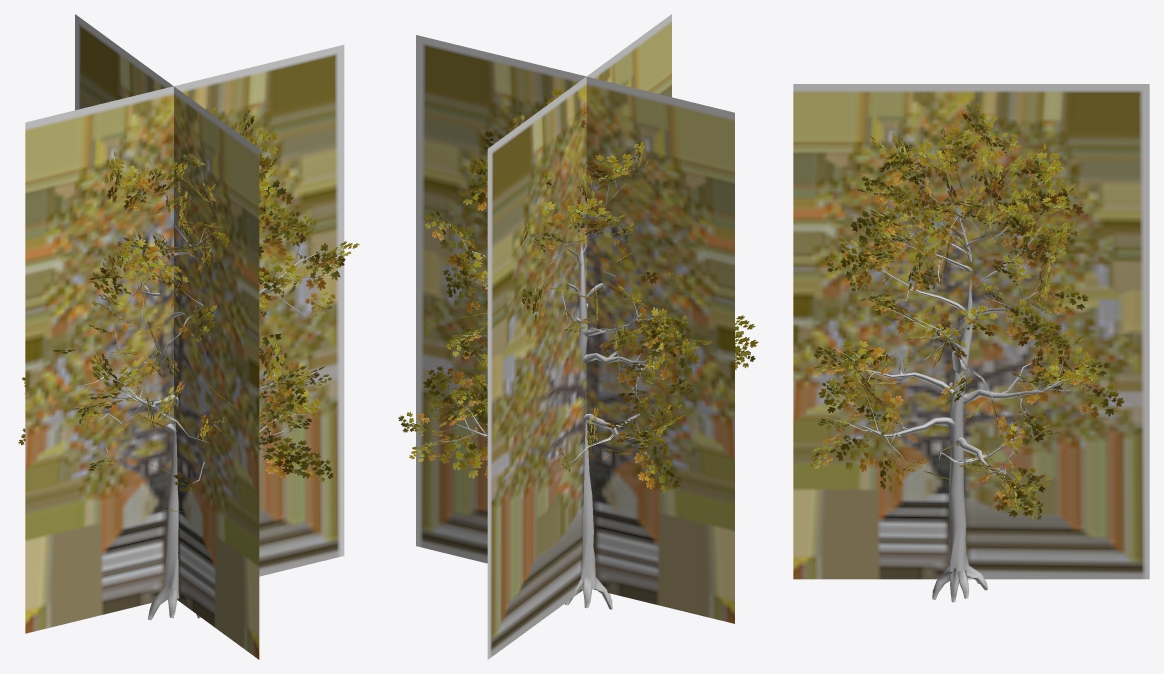
File: Tree-Maple2B.fbx
3 renders of one model, left to right at view 1: azimuth 30°, elevation 25°; view 2: azimuth 150°, elevation 25°; view 3: azimuth 270°, elevation 25°, orthographic. The views are drawn at different scales.
Parts seen in each view (by area): view 1: Billboard-MapleB, Tree-Maple2B_LOD0; view 2: Billboard-MapleB, Tree-Maple2B_LOD0; view 3: Billboard-MapleB, Tree-Maple2B_LOD0.
Part boxes in pixels (<box>): Billboard-MapleB: <box>25,14,344,659</box>; Tree-Maple2B_LOD0: <box>18,108,359,620</box>; Billboard-MapleB: <box>416,14,734,659</box>; Tree-Maple2B_LOD0: <box>398,88,758,609</box>; Billboard-MapleB: <box>793,84,1149,579</box>; Tree-Maple2B_LOD0: <box>806,103,1124,602</box>.
Size of what is drawn, in the model's own units: 1804 by 2851 by 1804.
